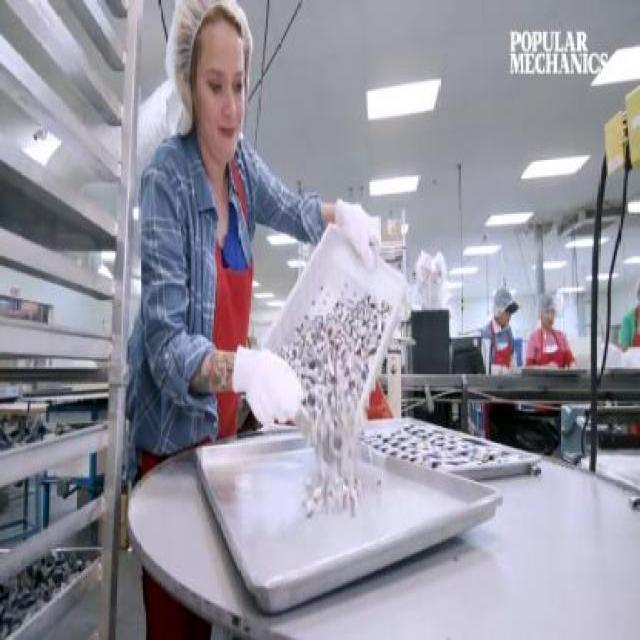gloved_hand: (225, 342, 312, 426), (314, 190, 388, 268)
